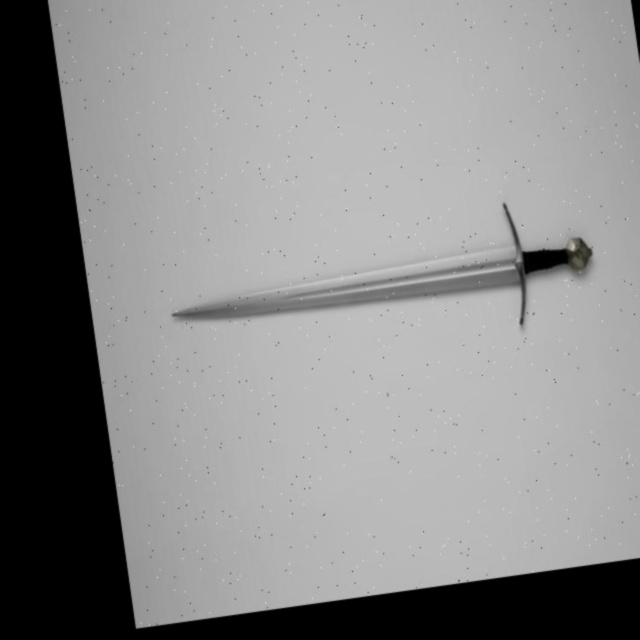Sharp-Object: (162, 225, 600, 338)
